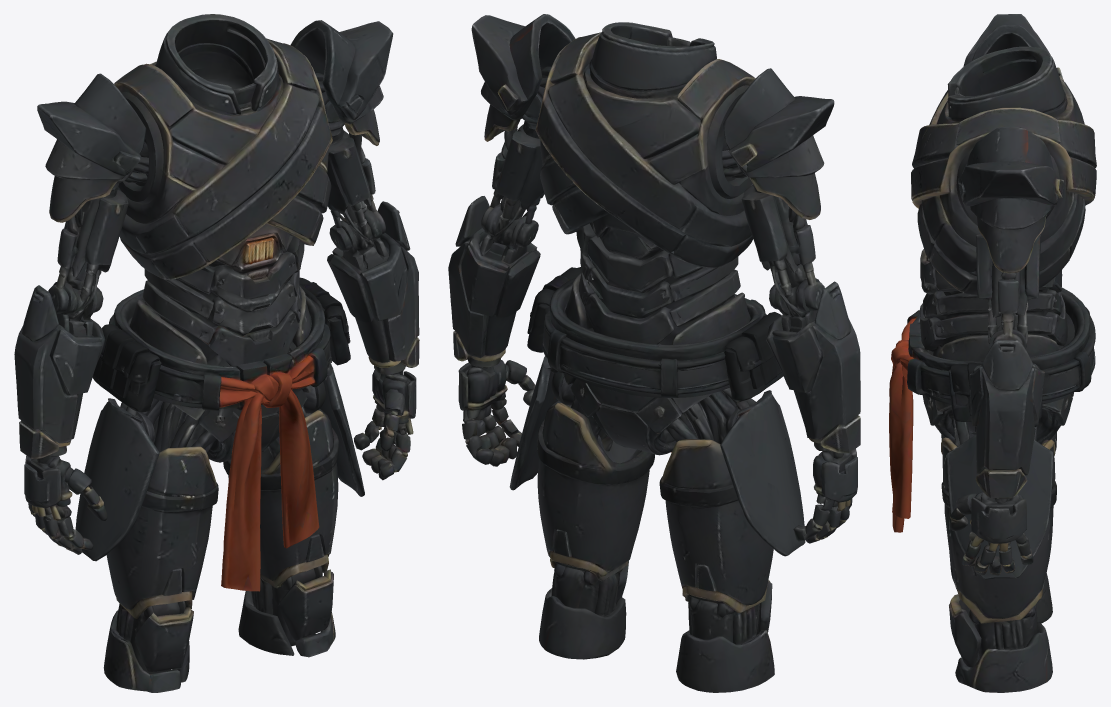
Rendered from bot-body.glb.
The picture shows the model from 3 angles, left to right: view 1: azimuth 30°, elevation 25°; view 2: azimuth 150°, elevation 25°; view 3: azimuth 270°, elevation 25°; orthographic projection. The views are drawn at different scales.
Visible parts, largest first — view 1: model; view 2: model; view 3: model.
Part boxes in pixels (x1,y1,x2,y2): model: (14, 14, 419, 692); model: (448, 14, 860, 692); model: (889, 14, 1096, 692).
Size of the model in its own units: 1.24 by 1.89 by 0.6108.
Materials: 1 (1 with a texture image).
